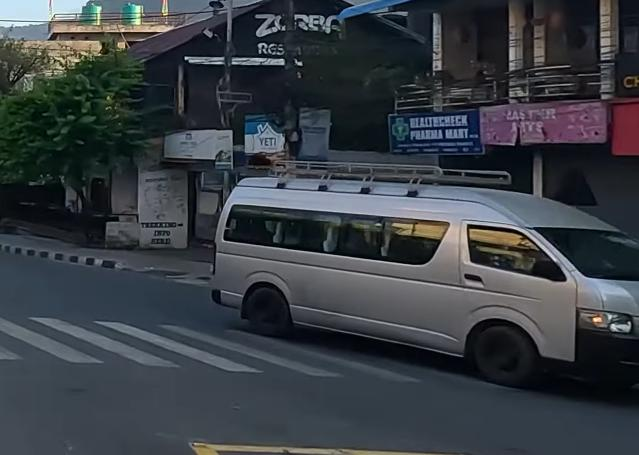micro_bus: (201, 148, 639, 403)
